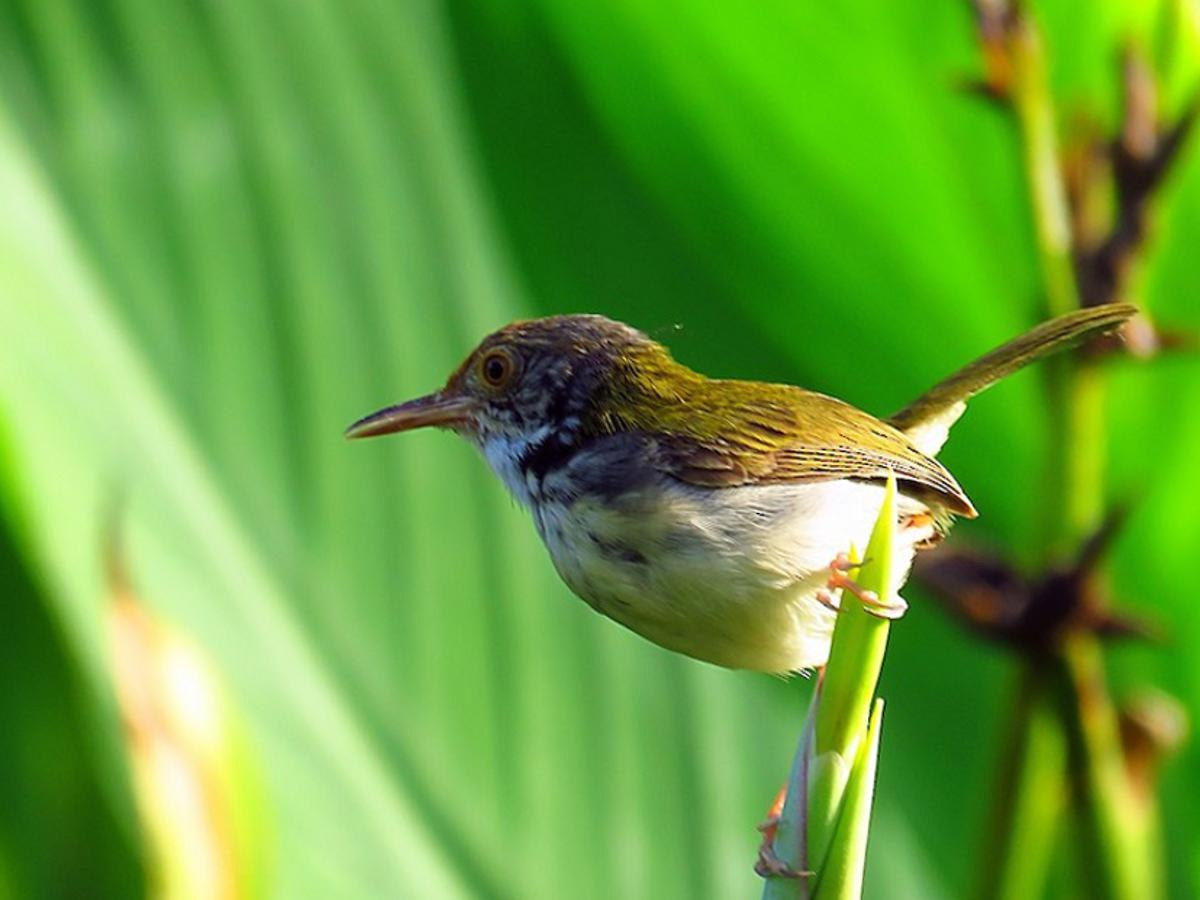tailorbird: (351, 303, 1007, 743)
